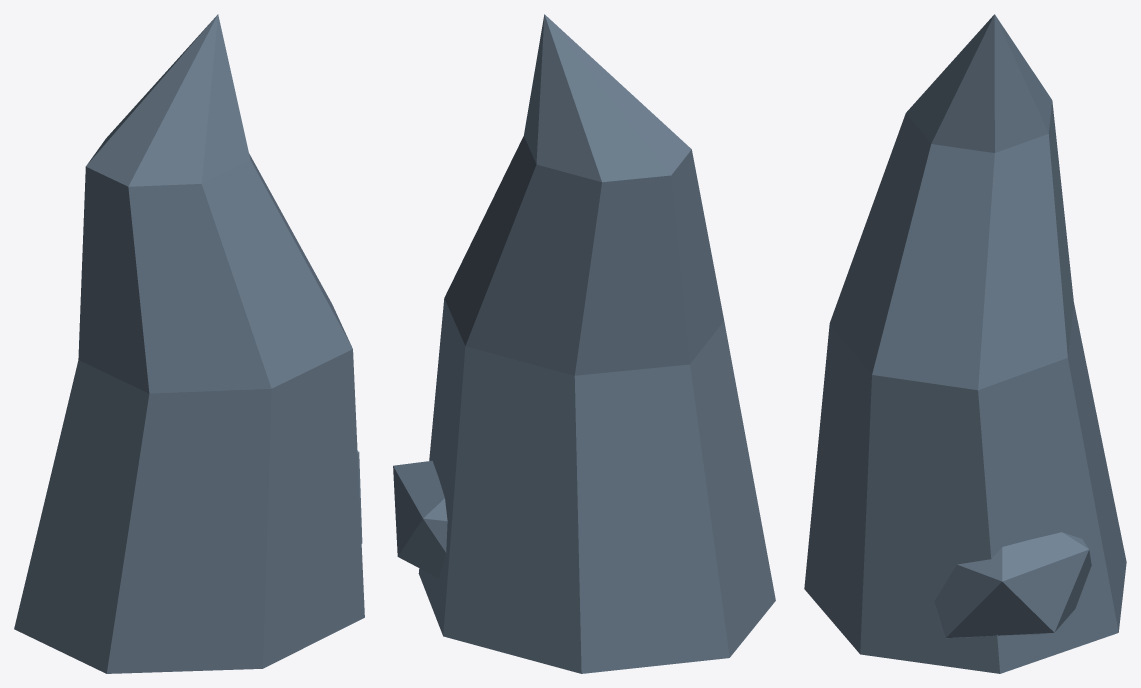
Rendered from pedra.glb.
The picture shows the model from 3 angles, left to right: view 1: azimuth 30°, elevation 25°; view 2: azimuth 150°, elevation 25°; view 3: azimuth 270°, elevation 25°; orthographic projection. The views are drawn at different scales.
Parts seen in each view (by area): view 1: pedreira_pedra; view 2: pedreira_pedra; view 3: pedreira_pedra.
Part boxes in pixels (bbox=[...]): pedreira_pedra: bbox=[14, 14, 364, 673]; pedreira_pedra: bbox=[393, 14, 775, 673]; pedreira_pedra: bbox=[804, 14, 1126, 673].
Size of the model in its own units: 0.797 by 1.3 by 0.6342.
